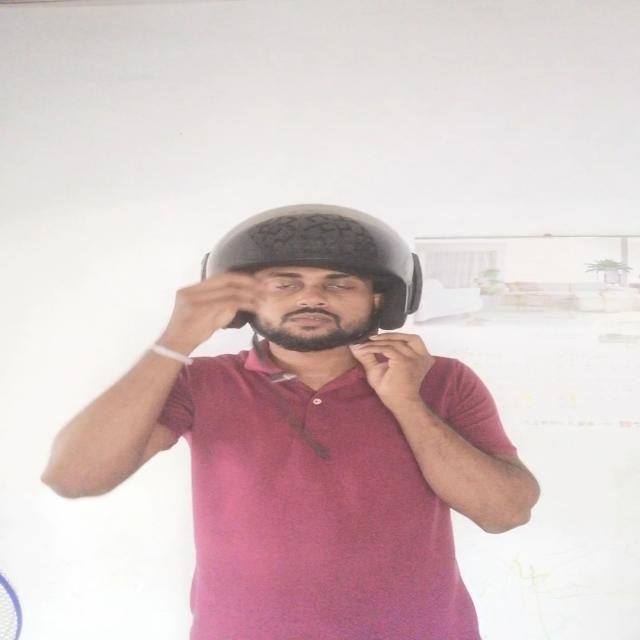Helmet_Wearer: (163, 207, 468, 394)
